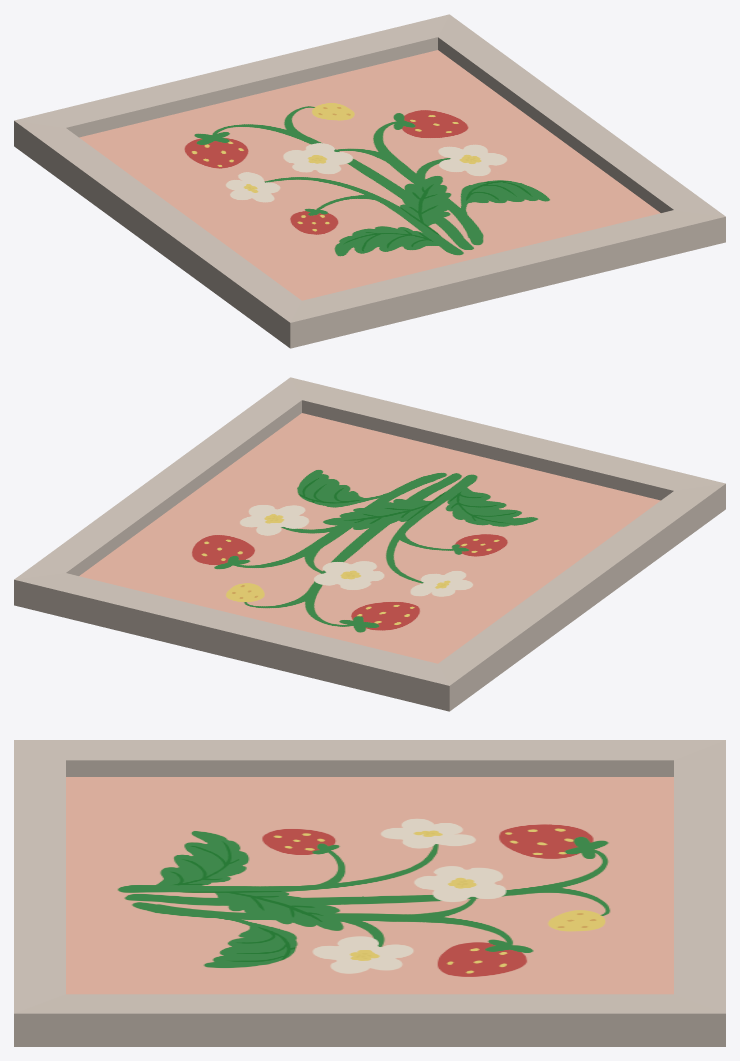
File: strawbery_picture.fbx
The picture shows the model from 3 angles, top to bottom: view 1: azimuth 30°, elevation 25°; view 2: azimuth 150°, elevation 25°; view 3: azimuth 270°, elevation 25°; orthographic projection. The views are drawn at different scales.
Parts seen in each view (by area): view 1: Plane.004; view 2: Plane.004; view 3: Plane.004.
Part boxes in pixels (left/top/right/bottom): Plane.004: left=14, top=14, right=725, bottom=348; Plane.004: left=14, top=377, right=725, bottom=711; Plane.004: left=14, top=740, right=725, bottom=1046.
Size of the model in its own units: 182 by 10.28 by 200.
2 materials, 1 textured.
